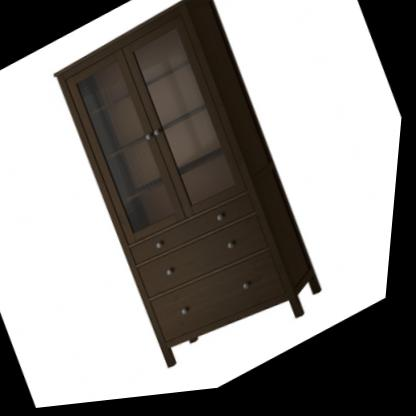Cabinet: (23, 0, 363, 409)
